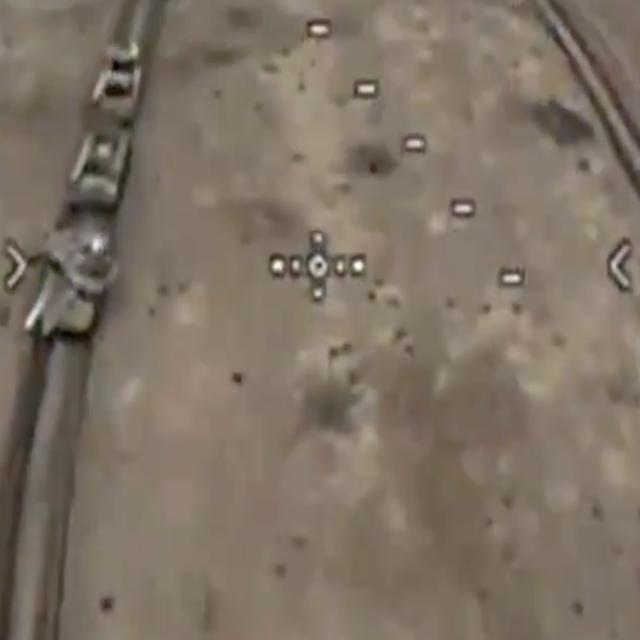vehicle: (27, 231, 111, 344), (70, 130, 132, 210), (94, 43, 142, 113)
